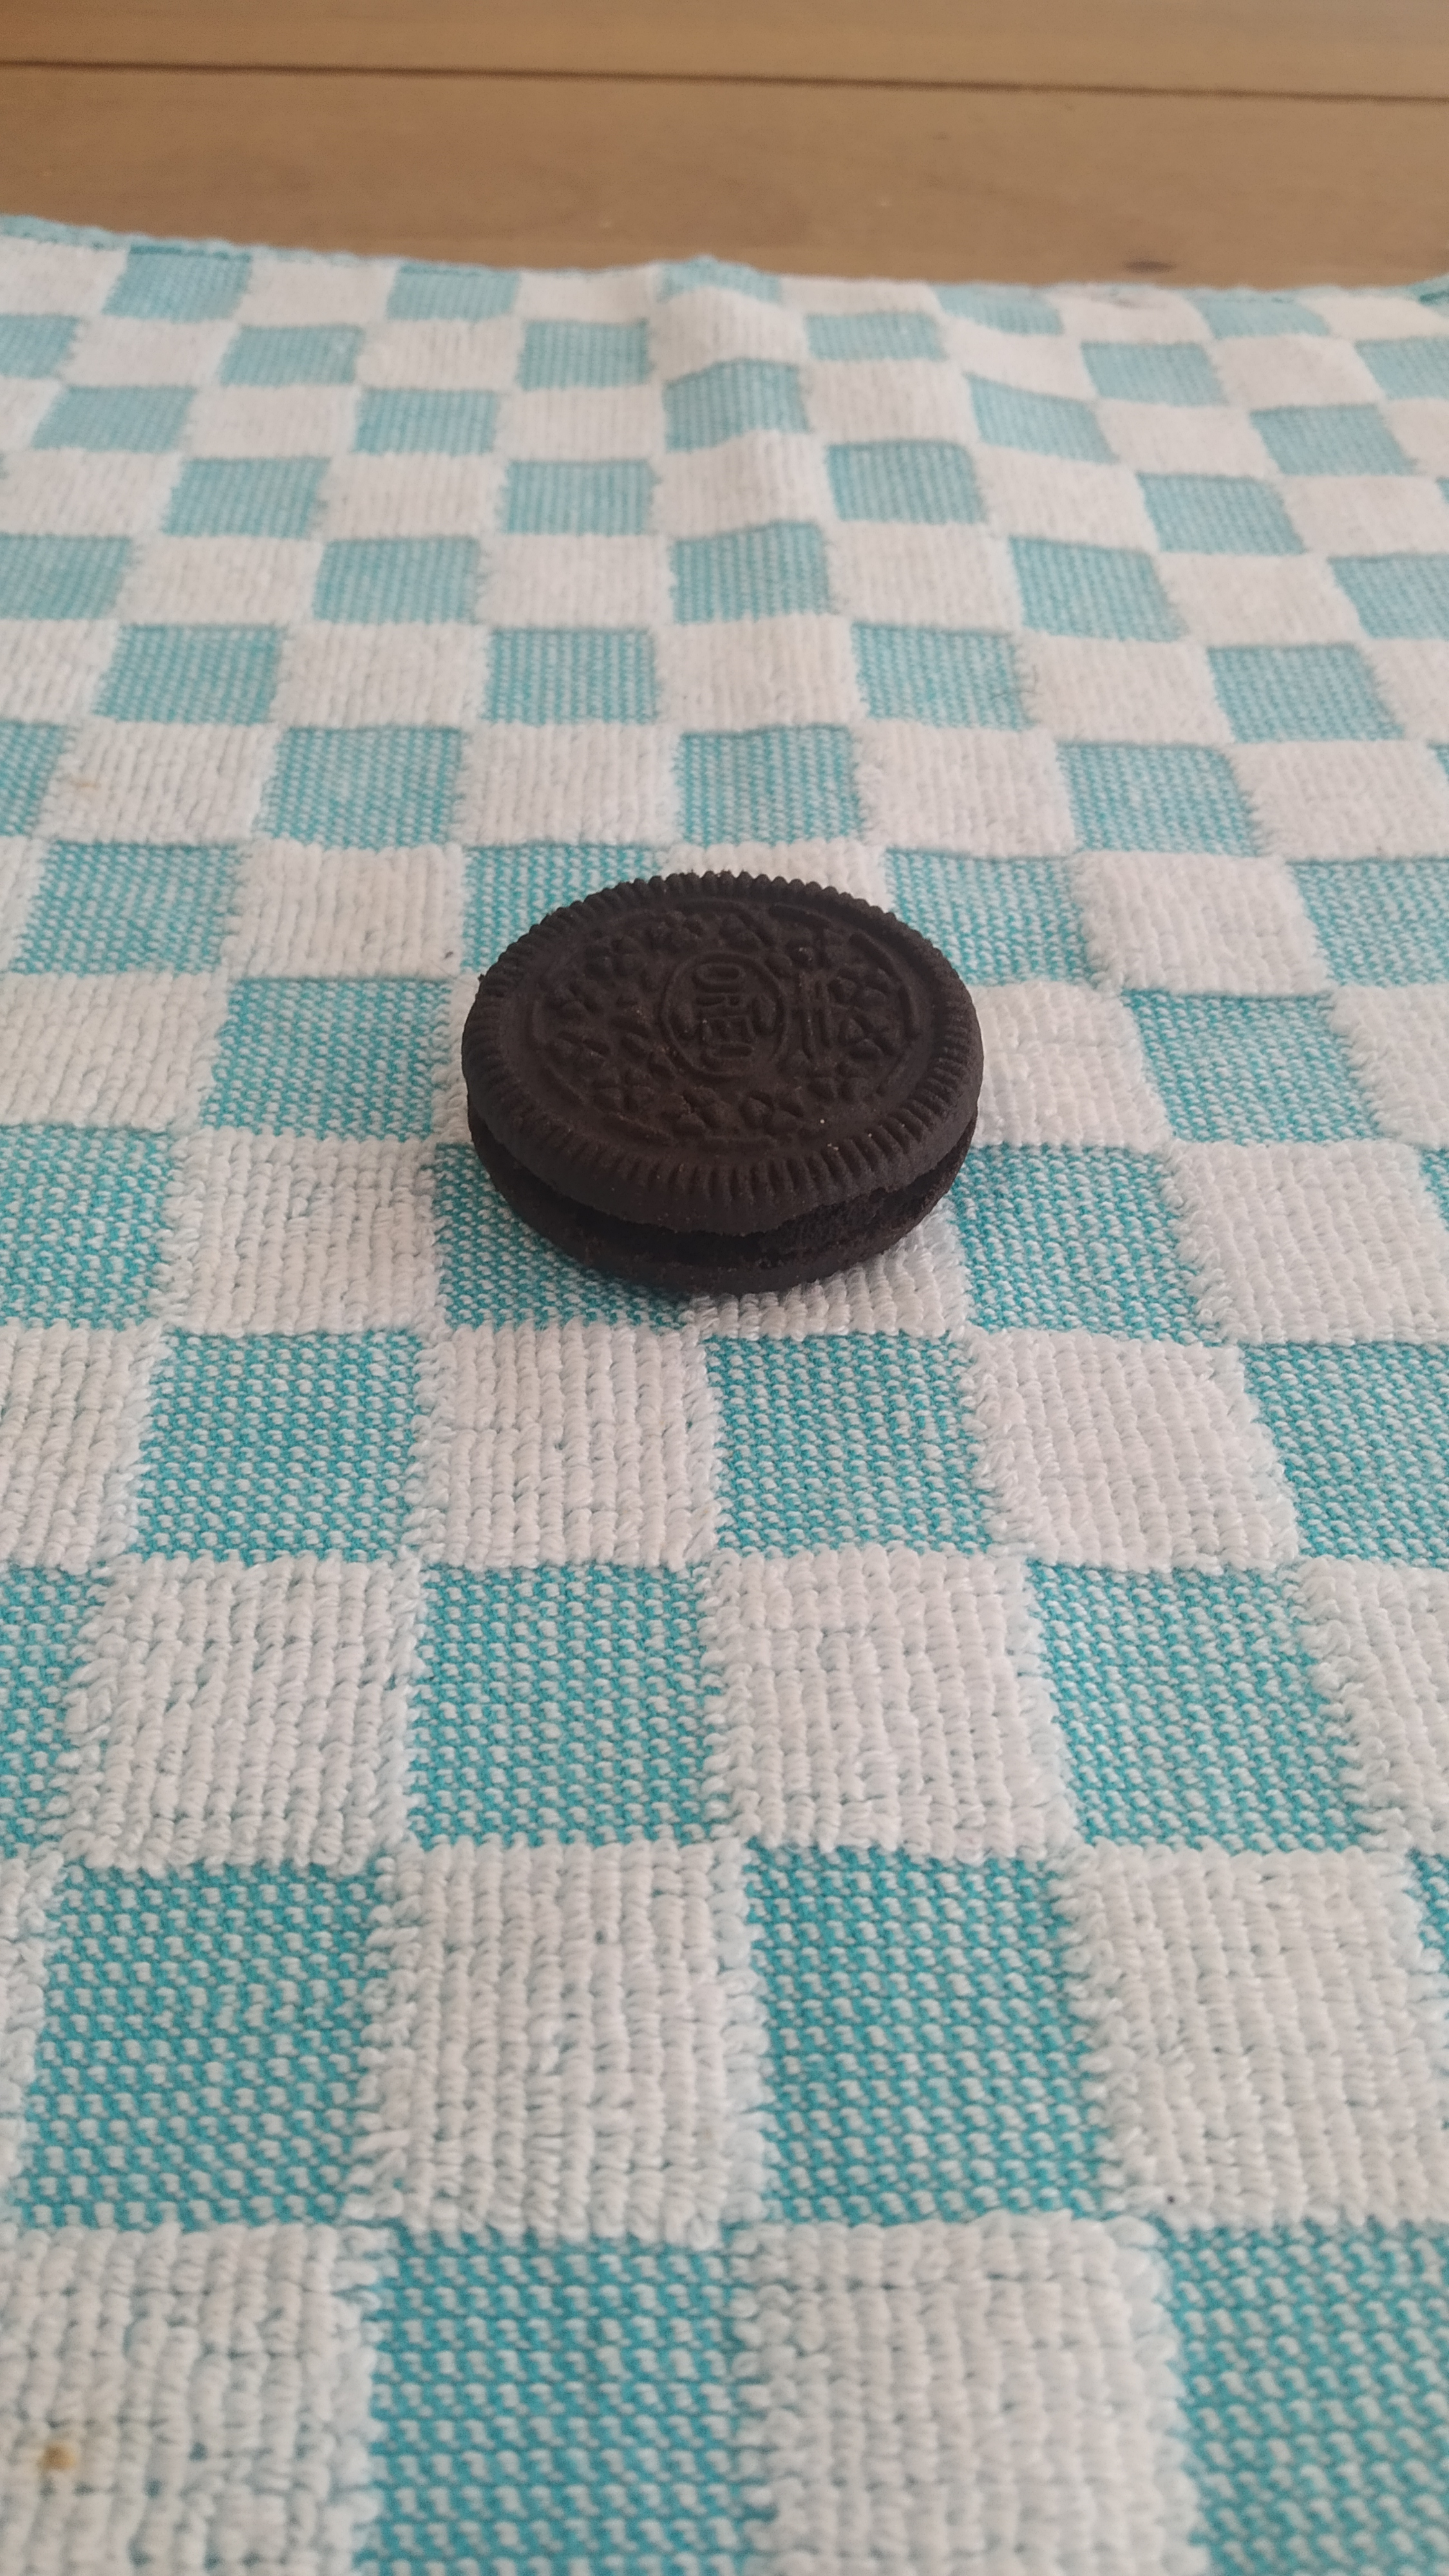oreo: (460, 869, 985, 1297)
